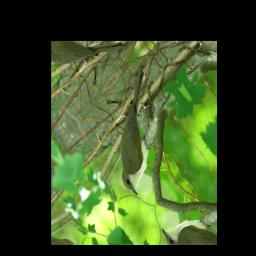Cuckoo: (82, 61, 194, 200)
